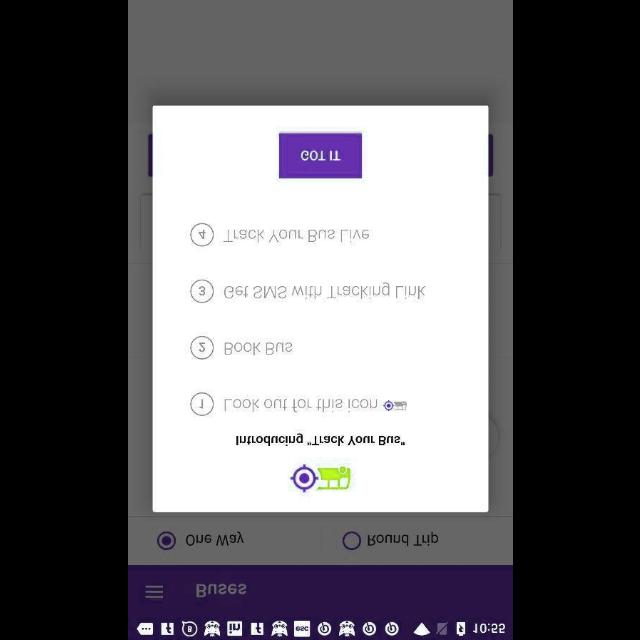checkbox: (156, 531, 174, 549), (342, 532, 360, 550)
icon: (144, 584, 162, 598)
image: (289, 463, 351, 492), (190, 392, 212, 416), (190, 336, 212, 359), (190, 280, 212, 302), (190, 224, 212, 246)
panel: (152, 105, 488, 512)
text: (222, 281, 426, 299), (223, 397, 407, 413), (235, 432, 405, 446), (222, 228, 370, 242), (367, 531, 438, 545), (224, 342, 292, 356), (185, 532, 243, 546), (196, 583, 246, 597)
textbutton: (278, 132, 362, 180)
uppertaskbar: (128, 617, 512, 639)
